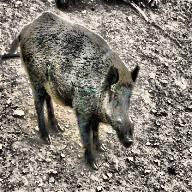boar: (13, 0, 151, 168)
